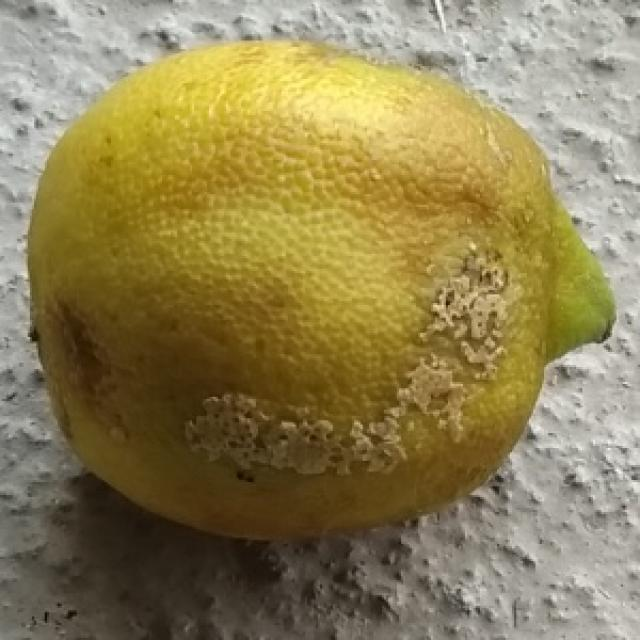overripe: (23, 32, 619, 546)
